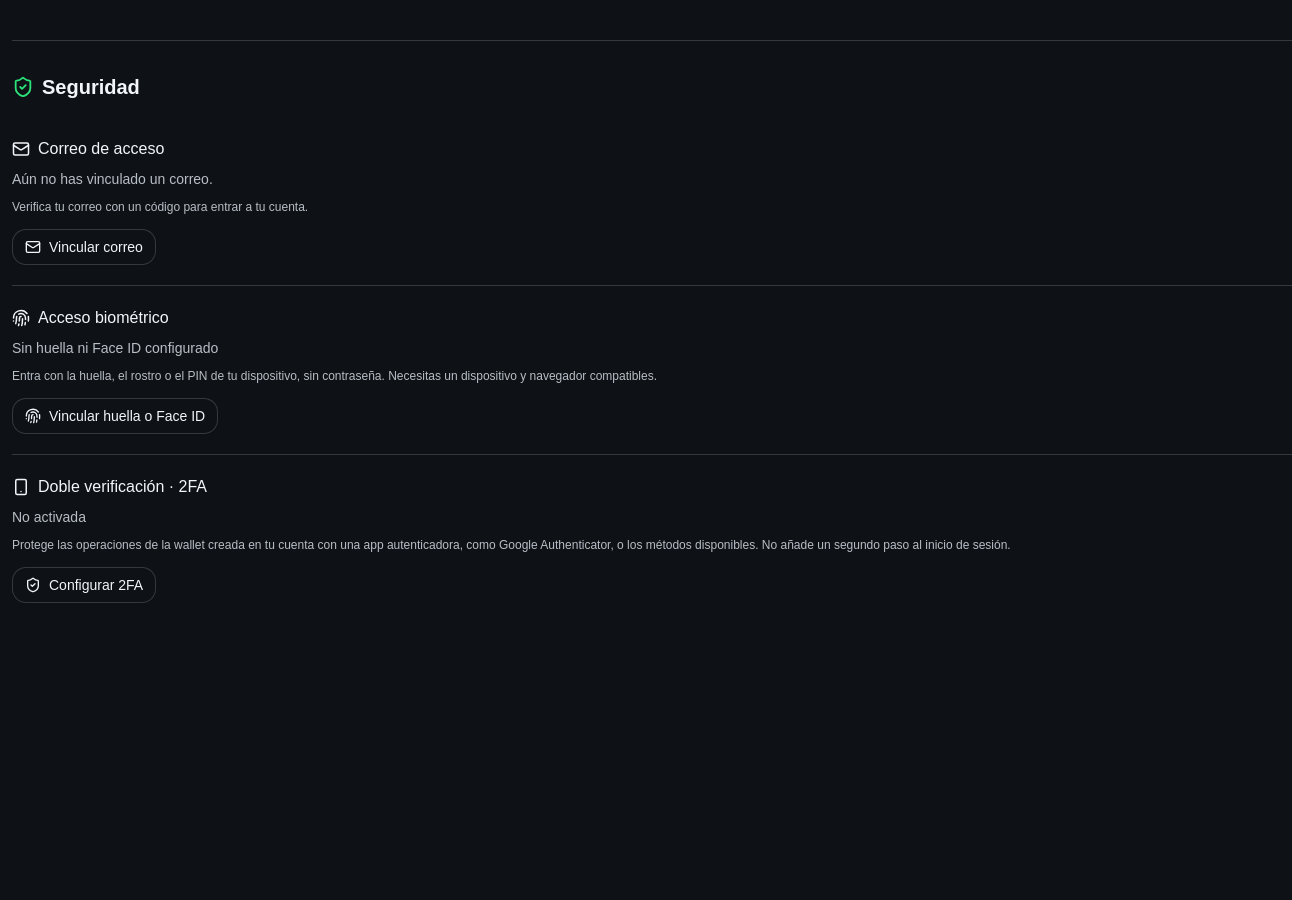
Scenario: verified account security › handles provider failures without inventing enrollment
The image size is (1292, 900).
Click the button "Configurar 2FA": (84, 585) x1=12 y1=567 x2=156 y2=603
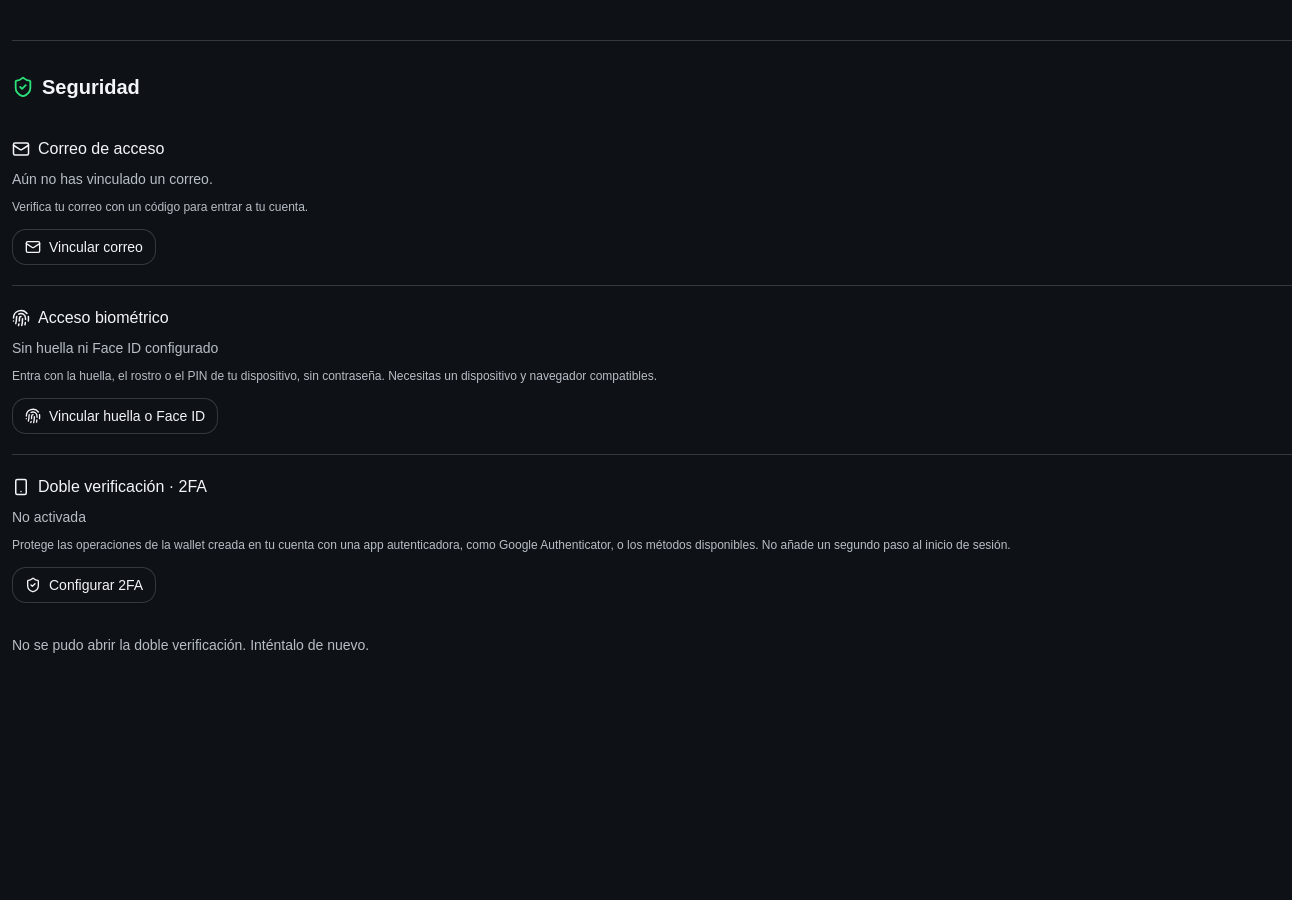
expect the message "No se pudo abrir la doble verificación. Inténtalo de nuevo." is shown: met, box x1=12 y1=637 x2=369 y2=653
